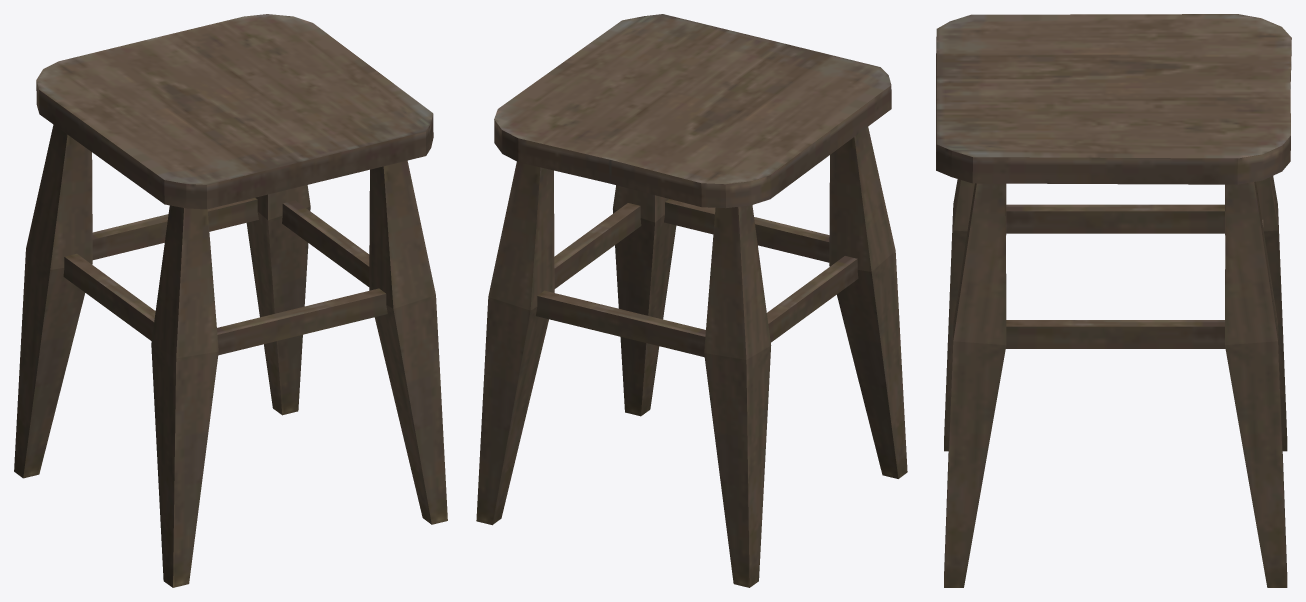
The model's file is bg_lut_lucastle_smallchair02_sm_artree.FBX.
3 views of the same model, side by side, from view 1: azimuth 30°, elevation 25°; view 2: azimuth 150°, elevation 25°; view 3: azimuth 270°, elevation 25° (orthographic). The views are drawn at different scales.
Visible parts, largest first — view 1: bg_lut_lucastle_smallchair02_sm_artree; view 2: bg_lut_lucastle_smallchair02_sm_artree; view 3: bg_lut_lucastle_smallchair02_sm_artree.
Boxes of the visible parts, x1=… form: bg_lut_lucastle_smallchair02_sm_artree: x1=14, y1=14, x2=447, y2=587; bg_lut_lucastle_smallchair02_sm_artree: x1=476, y1=14, x2=907, y2=587; bg_lut_lucastle_smallchair02_sm_artree: x1=936, y1=14, x2=1291, y2=587.
Bounding box in the file's own units: 41.38 × 56.96 × 42.68.
